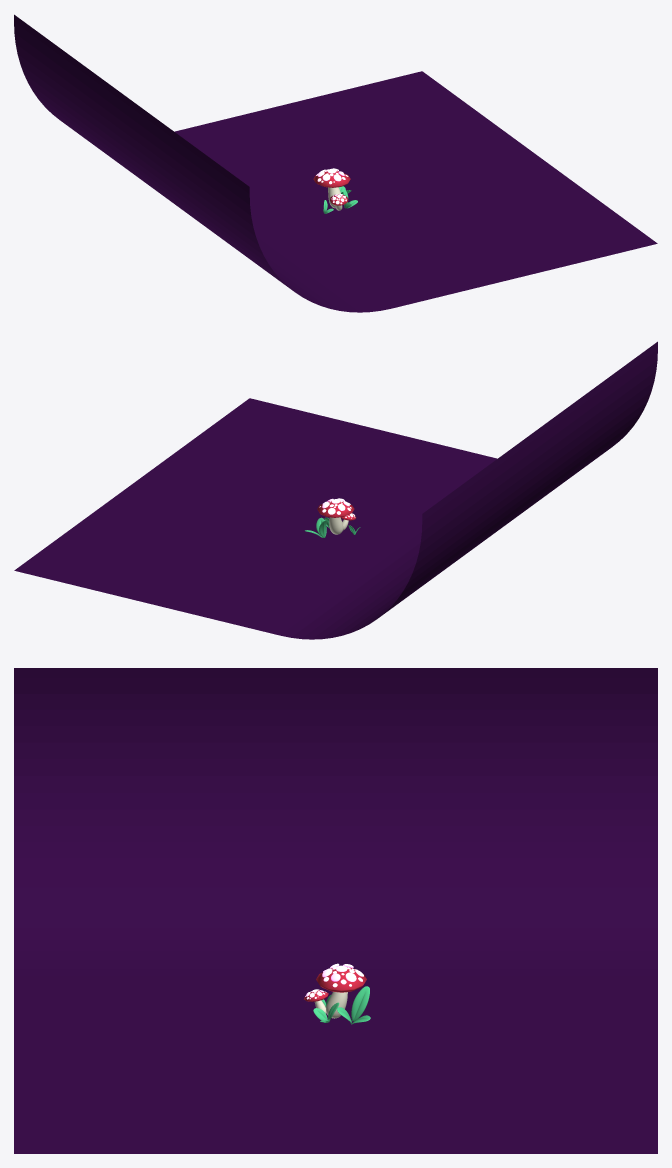
File: mushrooms.fbx
3 views of the same model, one above another, from view 1: azimuth 30°, elevation 25°; view 2: azimuth 150°, elevation 25°; view 3: azimuth 270°, elevation 25° (orthographic). The views are drawn at different scales.
Visible parts, largest first — view 1: Plane.004; view 2: Plane.004; view 3: Plane.004.
Part boxes in pixels (<box>): Plane.004: <box>14,14,657,312</box>; Plane.004: <box>14,341,657,639</box>; Plane.004: <box>14,668,657,1153</box>.
Bounding box in the file's own units: 9231 × 3410 × 9231.
